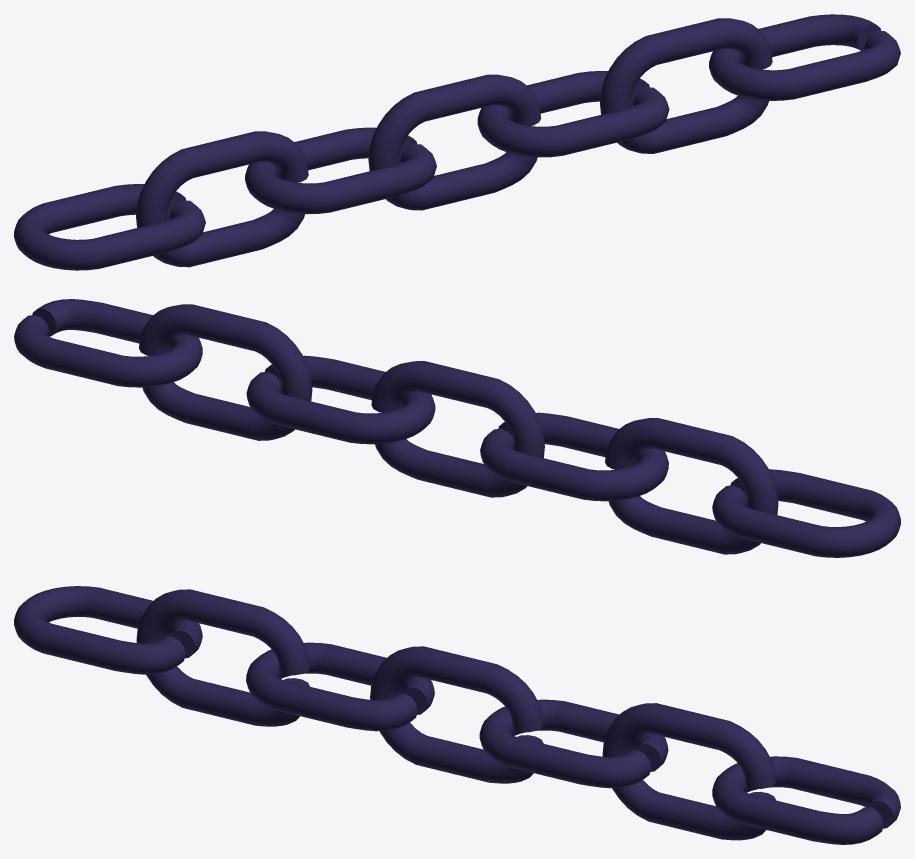
File: Chains_Group.fbx
The picture shows the model from 3 angles, top to bottom: view 1: azimuth 30°, elevation 25°; view 2: azimuth 150°, elevation 25°; view 3: azimuth 330°, elevation 25°; orthographic projection.
Parts seen in each view (by area): view 1: chain; view 2: chain; view 3: chain.
Boxes of the visible parts, x1,y1,x2,y2 form: chain: (14, 14, 900, 270); chain: (14, 299, 900, 557); chain: (14, 586, 900, 844).
Bounding box in the file's own units: 10.32 × 1.33 × 1.33.
